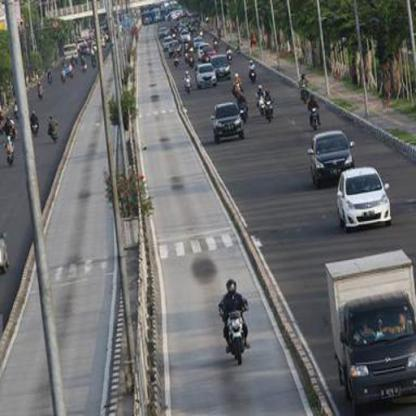bus: (322, 243, 415, 414)
car: (334, 166, 392, 233), (307, 128, 354, 187), (211, 103, 248, 145), (210, 54, 234, 82), (195, 64, 218, 90)
motorbike: (221, 305, 249, 365), (263, 98, 277, 126), (307, 108, 321, 130), (183, 76, 195, 95)
